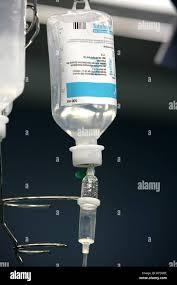Iv_Bottle: (47, 1, 116, 166), (0, 0, 26, 112)
Syringe: (78, 167, 99, 266)
